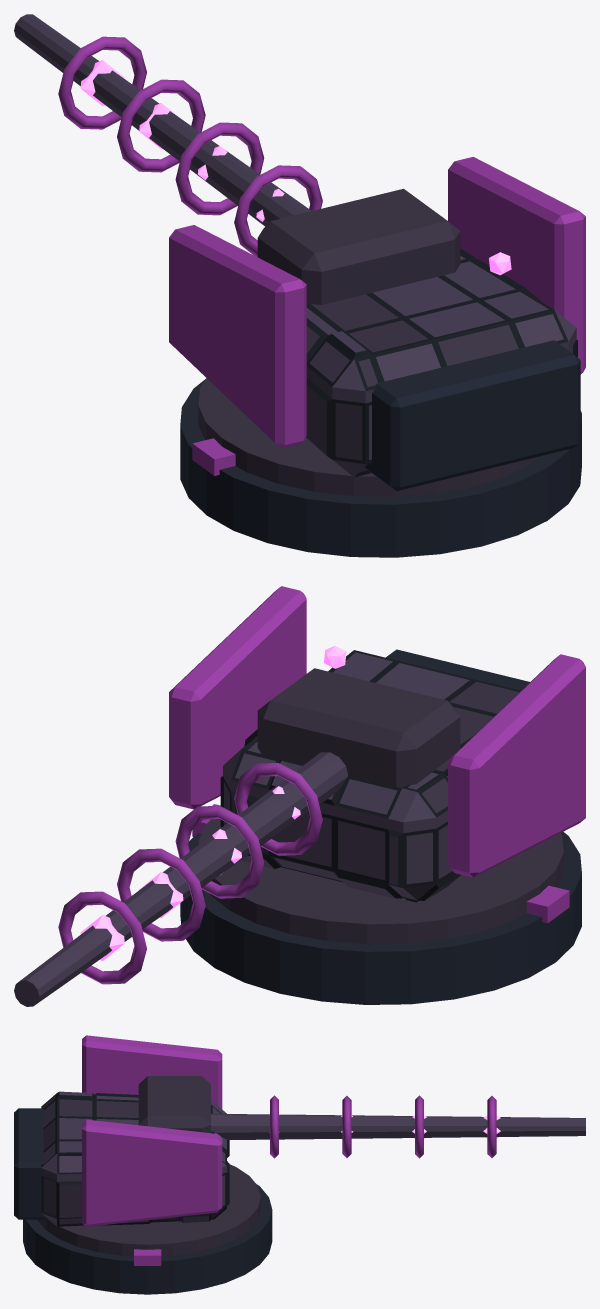
File: turret_nova_lances.glb
3 views of the same model, one above another, from view 1: azimuth 30°, elevation 25°; view 2: azimuth 150°, elevation 25°; view 3: azimuth 270°, elevation 25° (orthographic). The views are drawn at different scales.
Parts seen in each view (by area): view 1: Yaw_mesh, Pitch_mesh, Base_mesh; view 2: Yaw_mesh, Base_mesh, Pitch_mesh; view 3: Yaw_mesh, Base_mesh, Pitch_mesh.
Part boxes in pixels (bbox=[...]): Yaw_mesh: bbox=[169, 156, 585, 490]; Pitch_mesh: bbox=[14, 14, 460, 304]; Base_mesh: bbox=[180, 378, 581, 557]; Yaw_mesh: bbox=[169, 586, 585, 902]; Base_mesh: bbox=[180, 804, 581, 1004]; Pitch_mesh: bbox=[14, 668, 460, 1006]; Yaw_mesh: bbox=[14, 1035, 229, 1226]; Base_mesh: bbox=[23, 1164, 272, 1294]; Pitch_mesh: bbox=[138, 1076, 585, 1158].
Size of the model in its own units: 1.12 by 0.7876 by 2.53.
